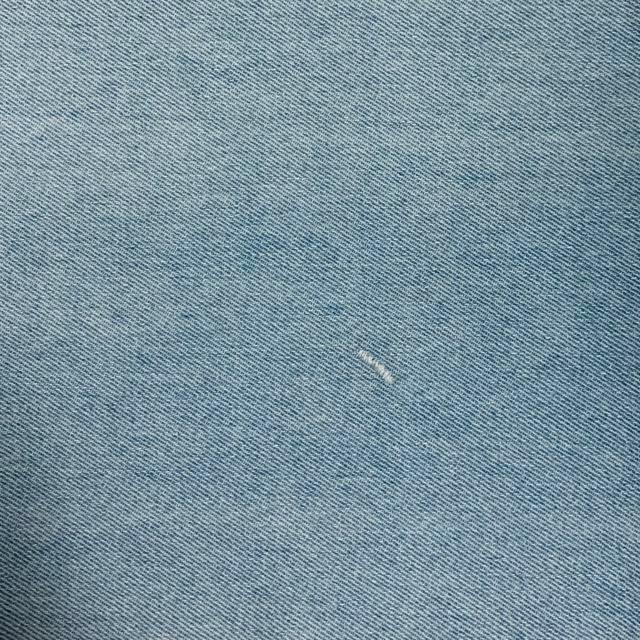Knot: (355, 345, 397, 385)
